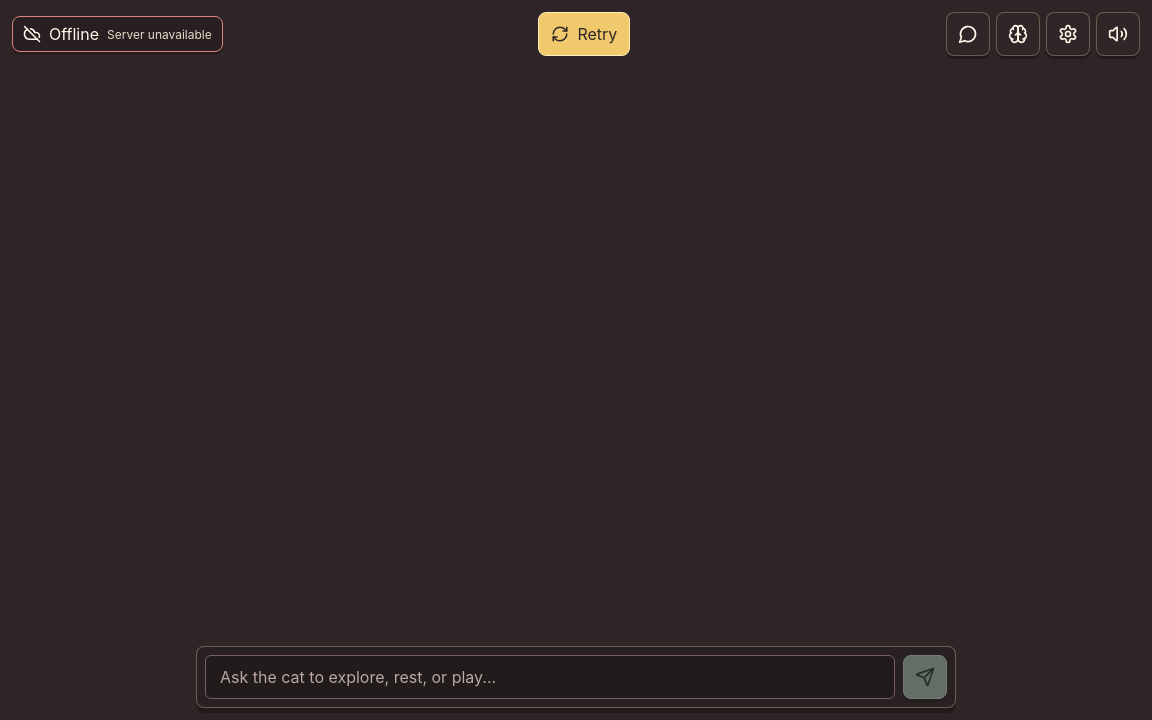
Test: natural language game interface › keeps commands disabled after initialization failure and retries successfully
Expected: the field named "Tell the cat what to do" is disabled, [205,655,895,699]
Click the button with aria-label "Retry connection" at (584, 34), box [538,12,630,56]
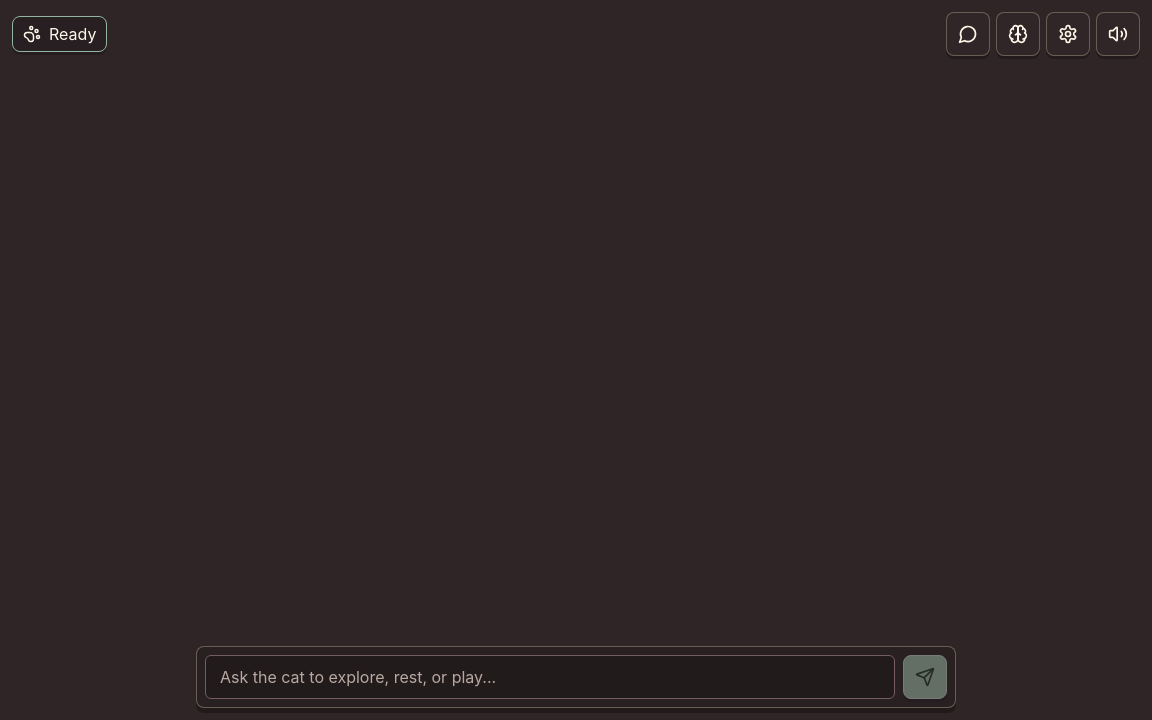
Expected: the field named "Tell the cat what to do" is enabled, [205,655,895,699]
Expected: the text "Ready" is shown, [49,24,96,44]
